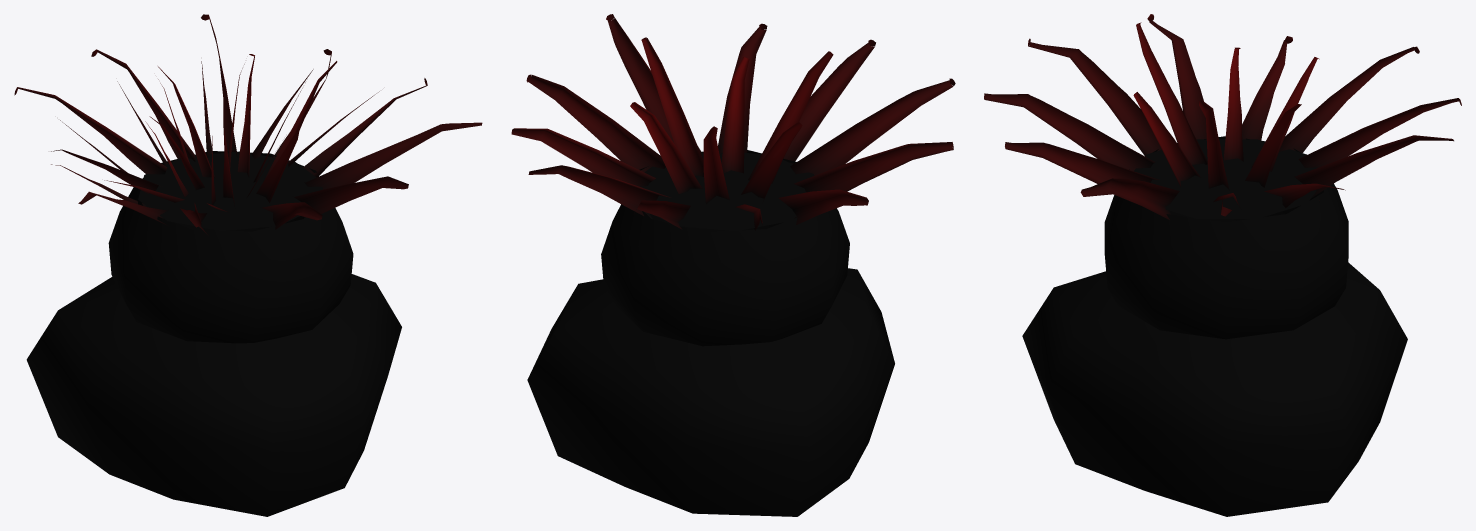
Rendered from plant_shallows_anemone_a.glb.
3 views of the same model, side by side, from view 1: azimuth 30°, elevation 25°; view 2: azimuth 150°, elevation 25°; view 3: azimuth 270°, elevation 25° (orthographic). The views are drawn at different scales.
Visible parts, largest first — view 1: plant_shallows_anemone_a; view 2: plant_shallows_anemone_a; view 3: plant_shallows_anemone_a.
Boxes of the visible parts, box(x1,y1,x2,y2) form: plant_shallows_anemone_a: box(14, 14, 482, 516); plant_shallows_anemone_a: box(511, 14, 955, 516); plant_shallows_anemone_a: box(984, 14, 1461, 516).
Size of the model in its own units: 0.3172 by 0.2955 by 0.3279.
1 material, 1 textured.
